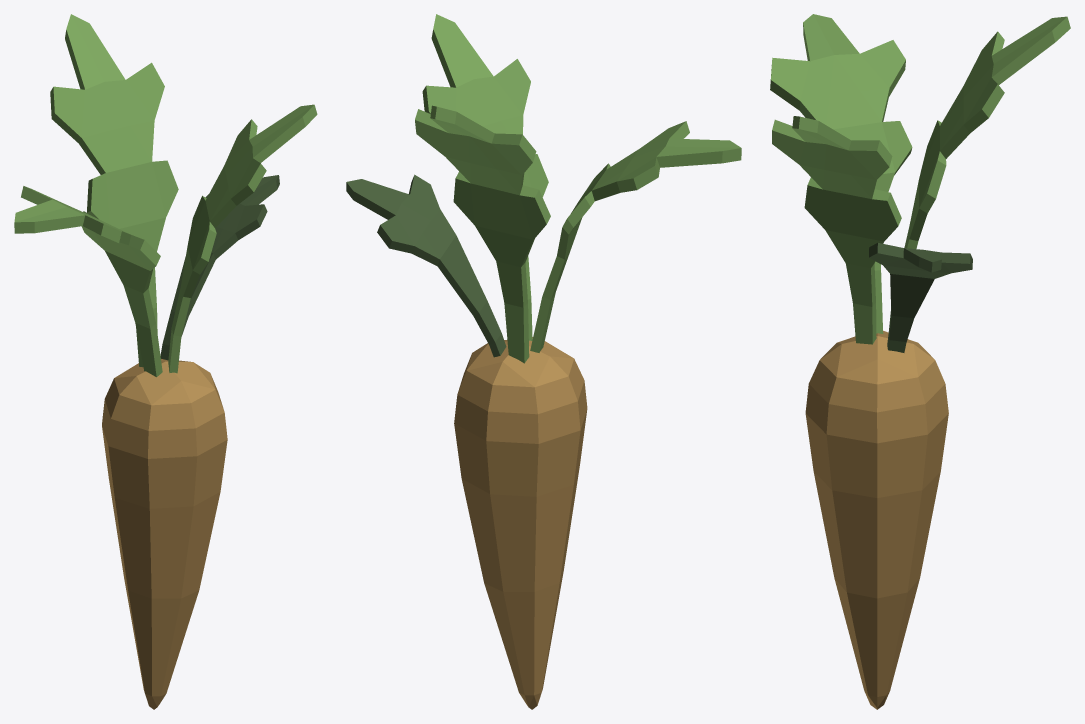
The model's file is Carrot_4.glb.
3 views of the same model, side by side, from view 1: azimuth 30°, elevation 25°; view 2: azimuth 150°, elevation 25°; view 3: azimuth 270°, elevation 25° (orthographic). The views are drawn at different scales.
Visible parts, largest first — view 1: Carrot_4; view 2: Carrot_4; view 3: Carrot_4.
Boxes of the visible parts, box(x1,y1,x2,y2) form: Carrot_4: box(14, 14, 317, 709); Carrot_4: box(346, 14, 741, 709); Carrot_4: box(770, 14, 1070, 709).
Size of the model in its own units: 0.6765 by 1.28 by 0.5016.
